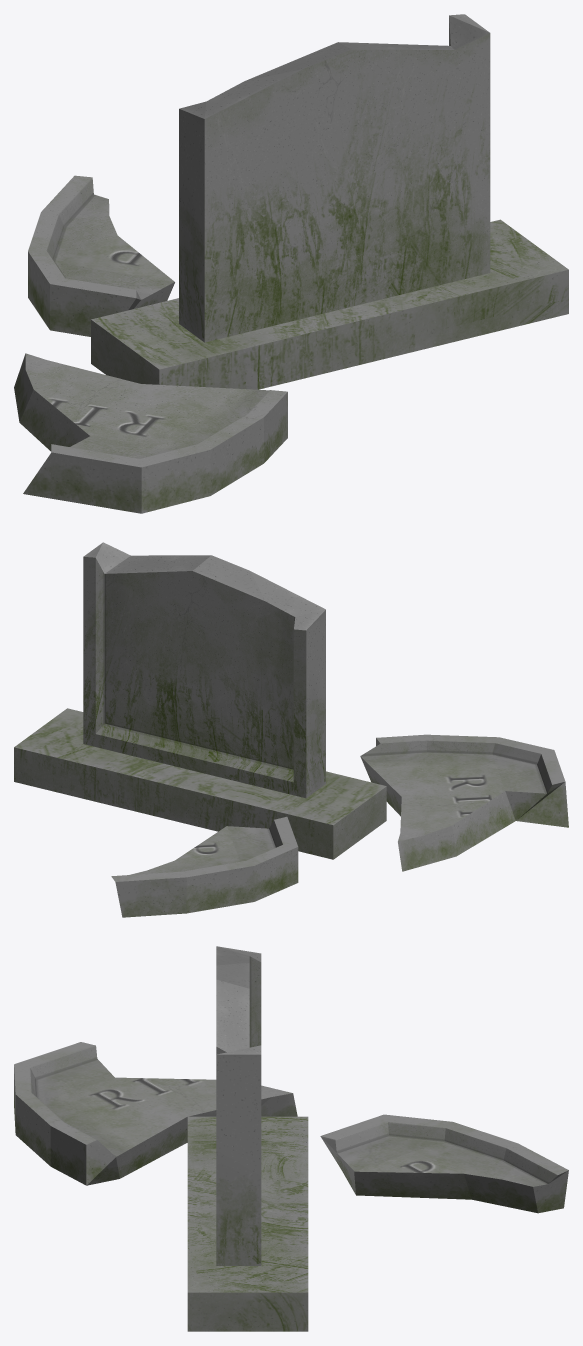
Rendered from broken_grave_03.fbx.
3 views of the same model, one above another, from view 1: azimuth 30°, elevation 25°; view 2: azimuth 150°, elevation 25°; view 3: azimuth 270°, elevation 25° (orthographic). The views are drawn at different scales.
Parts seen in each view (by area): view 1: broken grave 3; view 2: broken grave 3; view 3: broken grave 3.
Part boxes in pixels (x1,y1,x2,y2): broken grave 3: (14,14,568,513); broken grave 3: (14,542,568,917); broken grave 3: (14,946,568,1331).
Bounding box in the file's own units: 1.29 × 0.6235 × 1.18.
